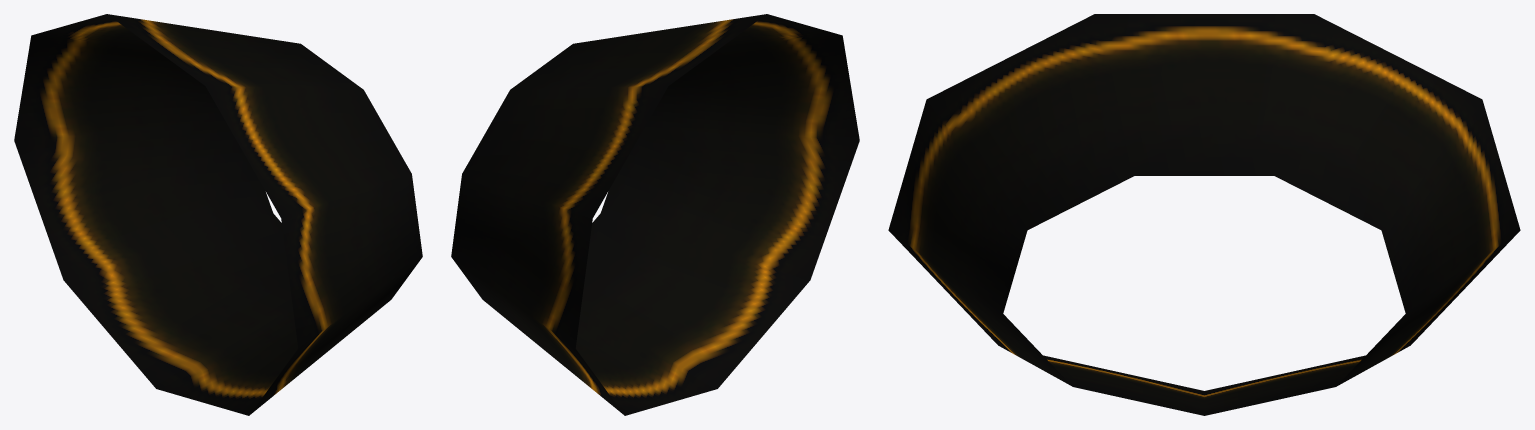
The picture shows the model from 3 angles, left to right: view 1: azimuth 30°, elevation 25°; view 2: azimuth 150°, elevation 25°; view 3: azimuth 270°, elevation 25°; orthographic projection. The views are drawn at different scales.
Visible parts, largest first — view 1: Cylinder001; view 2: Cylinder001; view 3: Cylinder001.
Boxes of the visible parts, x1,y1,x2,y2 form: Cylinder001: [14, 14, 422, 415]; Cylinder001: [451, 14, 859, 415]; Cylinder001: [888, 14, 1520, 415].
Size of the model in its own units: 1.27 by 2.33 by 3.54.
